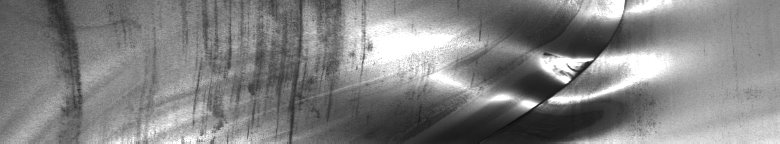ke: (472, 4, 641, 136)
